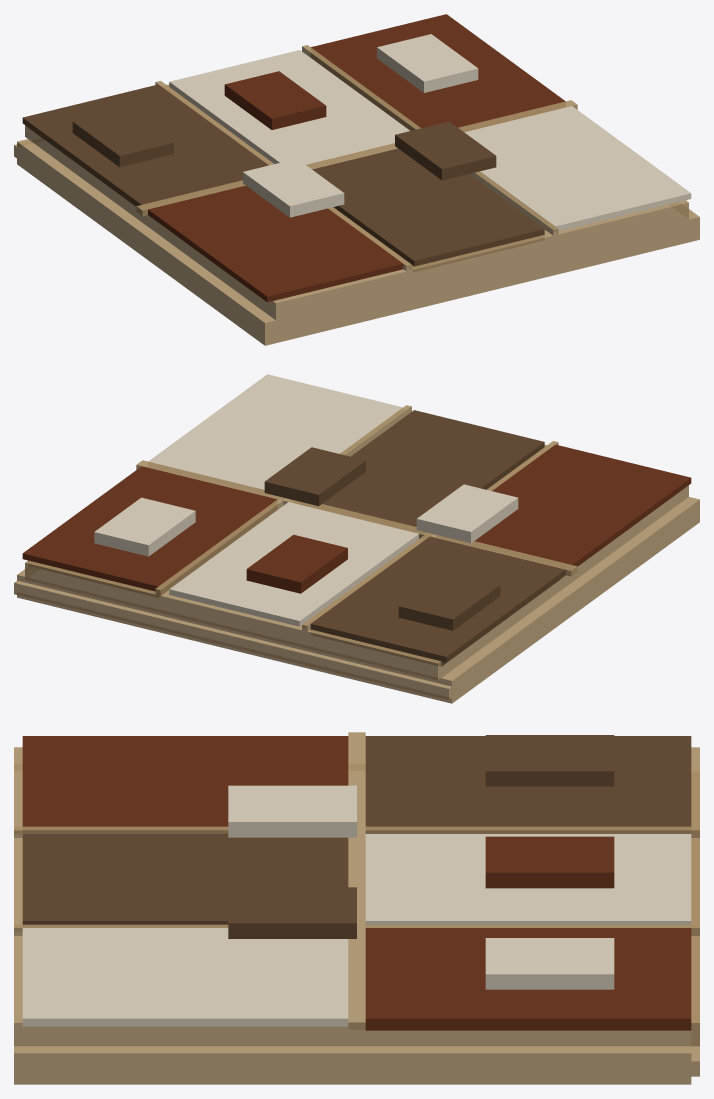
The model's file is sheet_fur_patchwork.glb.
The picture shows the model from 3 angles, top to bottom: view 1: azimuth 30°, elevation 25°; view 2: azimuth 150°, elevation 25°; view 3: azimuth 270°, elevation 25°; orthographic projection. The views are drawn at different scales.
Parts seen in each view (by area): view 1: sheet_fur_patchwork:compound; view 2: sheet_fur_patchwork:compound; view 3: sheet_fur_patchwork:compound.
Part boxes in pixels (box(x1,y1,x2,y2)): sheet_fur_patchwork:compound: box(14, 14, 699, 345); sheet_fur_patchwork:compound: box(14, 374, 699, 703); sheet_fur_patchwork:compound: box(14, 732, 699, 1084).
Size of the model in its own units: 0.16 by 0.02 by 0.16.
